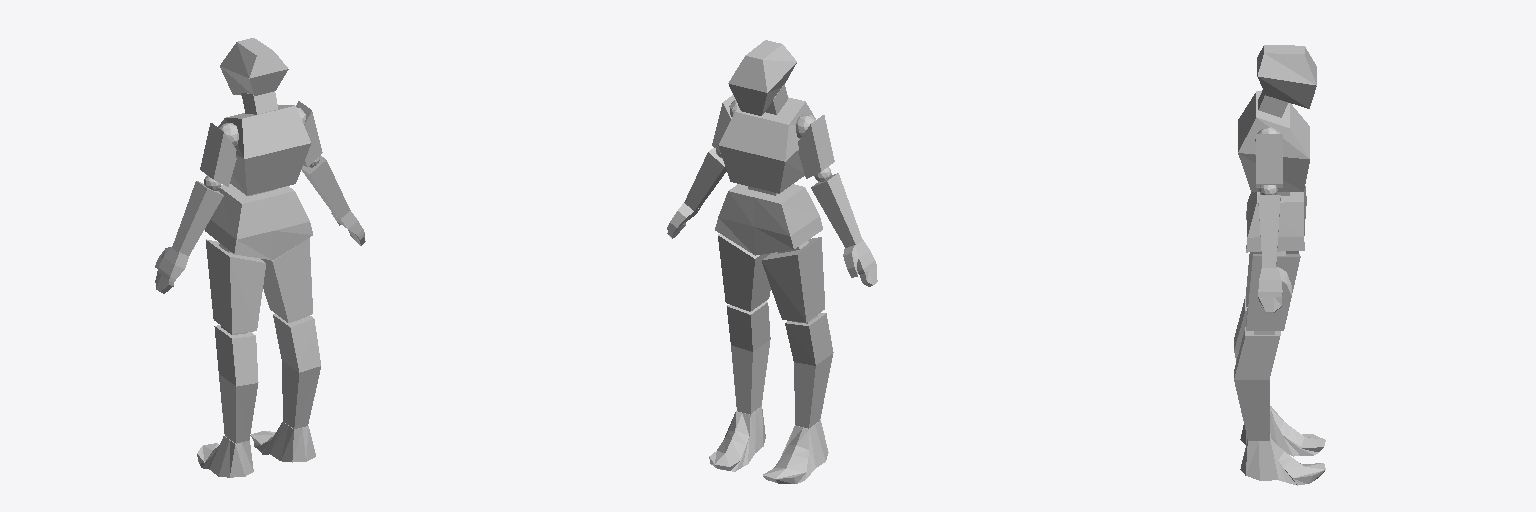
File: perso.obj
The picture shows the model from 3 angles: view 1: azimuth 30°, elevation 25°; view 2: azimuth 150°, elevation 25°; view 3: azimuth 270°, elevation 25°; orthographic projection.
Visible parts, largest first — view 1: Object_16_Cube.004_Material.006_0, Object_7_Cube.004_Material.002_0, Object_10_Cube.004_Material.003_0, Object_30_Cube.004_Material.008_0, Object_28_Cube.004_Material.004_0, Object_8_Cube.004_Material.001_0, Object_20_Cube.004_Material.011_0, Object_31_Cube.004_Material.007_0, Object_18_Cube.004_Material.010_0, Object_25_Cube.004_Material.013_0, Object_21_Cube.004_Material.015_0, Object_9_Cube.004_Material.016_0 (+1 smaller); view 2: Object_16_Cube.004_Material.006_0, Object_10_Cube.004_Material.003_0, Object_7_Cube.004_Material.002_0, Object_30_Cube.004_Material.008_0, Object_8_Cube.004_Material.001_0, Object_28_Cube.004_Material.004_0, Object_31_Cube.004_Material.007_0, Object_20_Cube.004_Material.011_0, Object_18_Cube.004_Material.010_0, Object_25_Cube.004_Material.013_0, Object_21_Cube.004_Material.015_0; view 3: Object_10_Cube.004_Material.003_0, Object_30_Cube.004_Material.008_0, Object_8_Cube.004_Material.001_0, Object_31_Cube.004_Material.007_0, Object_7_Cube.004_Material.002_0, Object_28_Cube.004_Material.004_0, Object_16_Cube.004_Material.006_0, Object_23_Cube.004_Material.012_0, Object_25_Cube.004_Material.013_0, Object_26_Cube.004_Material.014_0.
Part boxes in pixels (x1,y1,x2,y2): Object_16_Cube.004_Material.006_0: (197, 239, 265, 477); Object_7_Cube.004_Material.002_0: (205, 184, 312, 259); Object_10_Cube.004_Material.003_0: (218, 105, 310, 195); Object_30_Cube.004_Material.008_0: (273, 314, 320, 428); Object_28_Cube.004_Material.004_0: (261, 238, 312, 322); Object_8_Cube.004_Material.001_0: (220, 38, 288, 95); Object_20_Cube.004_Material.011_0: (172, 181, 223, 255); Object_31_Cube.004_Material.007_0: (250, 422, 315, 462); Object_18_Cube.004_Material.010_0: (200, 123, 236, 186); Object_25_Cube.004_Material.013_0: (301, 155, 350, 218); Object_21_Cube.004_Material.015_0: (155, 247, 188, 293); Object_9_Cube.004_Material.016_0: (241, 91, 277, 114); Object_16_Cube.004_Material.006_0: (762, 237, 833, 483); Object_10_Cube.004_Material.003_0: (718, 97, 815, 193); Object_7_Cube.004_Material.002_0: (715, 184, 822, 255); Object_30_Cube.004_Material.008_0: (727, 301, 770, 414); Object_8_Cube.004_Material.001_0: (728, 40, 796, 115); Object_28_Cube.004_Material.004_0: (718, 234, 770, 311); Object_31_Cube.004_Material.007_0: (709, 406, 765, 471); Object_20_Cube.004_Material.011_0: (811, 173, 862, 247); Object_18_Cube.004_Material.010_0: (798, 115, 834, 178); Object_25_Cube.004_Material.013_0: (684, 148, 726, 210); Object_21_Cube.004_Material.015_0: (843, 240, 877, 286); Object_10_Cube.004_Material.003_0: (1238, 91, 1309, 191); Object_30_Cube.004_Material.008_0: (1234, 327, 1280, 440); Object_8_Cube.004_Material.001_0: (1257, 45, 1316, 108); Object_31_Cube.004_Material.007_0: (1240, 434, 1325, 485); Object_7_Cube.004_Material.002_0: (1246, 186, 1306, 252); Object_28_Cube.004_Material.004_0: (1246, 254, 1300, 330); Object_16_Cube.004_Material.006_0: (1234, 251, 1325, 456); Object_23_Cube.004_Material.012_0: (1256, 134, 1282, 187); Object_25_Cube.004_Material.013_0: (1258, 195, 1280, 267); Object_26_Cube.004_Material.014_0: (1258, 267, 1291, 312).
Bounding box in the file's own units: 6.73 × 13 × 2.61.